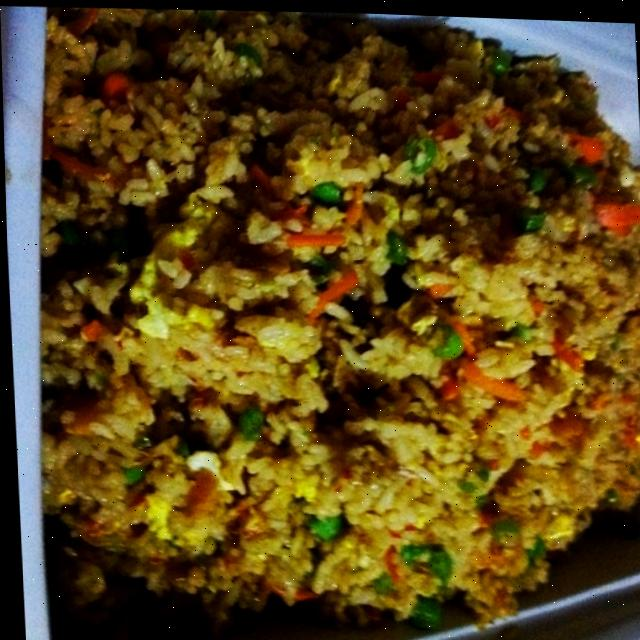米饭主食: (44, 19, 636, 630)
